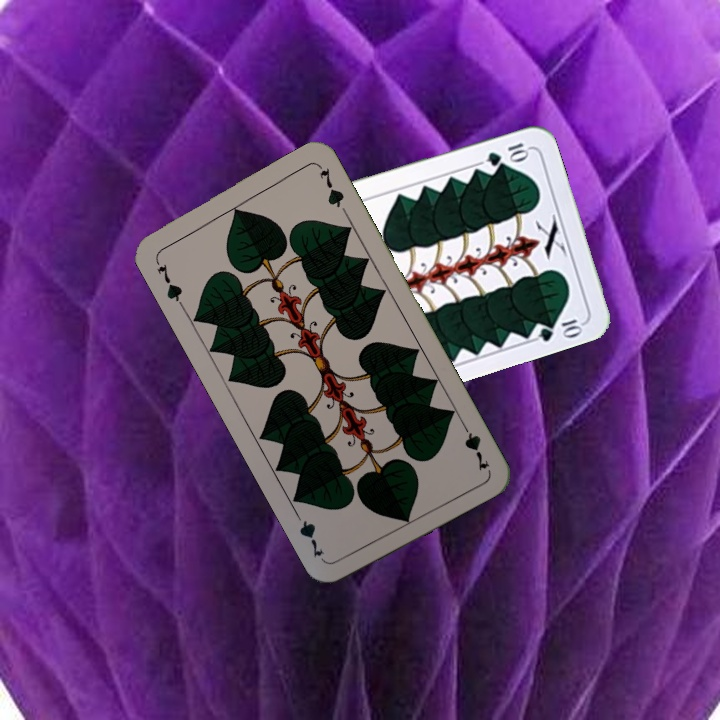G10: (482, 138, 532, 169)
G7: (456, 417, 492, 474), (150, 254, 186, 309)
